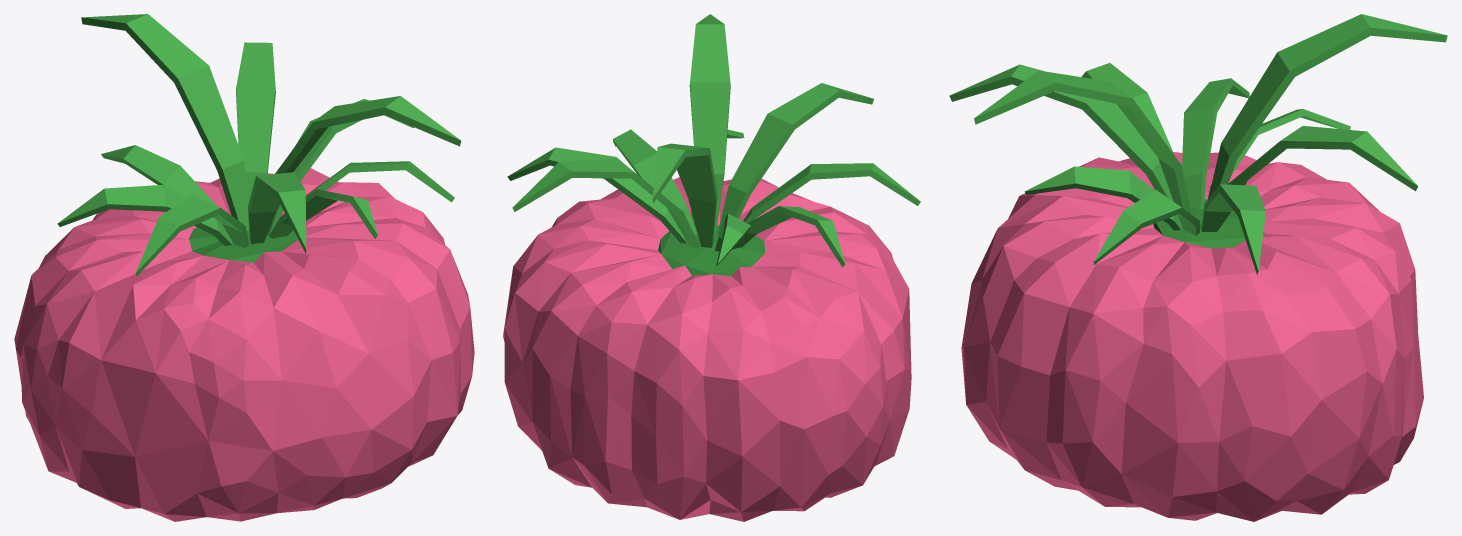
The model's file is fantasy_plant_059.fbx.
3 renders of one model, left to right at view 1: azimuth 30°, elevation 25°; view 2: azimuth 150°, elevation 25°; view 3: azimuth 270°, elevation 25°, orthographic. The views are drawn at different scales.
Parts seen in each view (by area): view 1: fantasy_plant.059; view 2: fantasy_plant.059; view 3: fantasy_plant.059.
Part boxes in pixels (x1,y1,x2,y2): fantasy_plant.059: (14,14,474,521); fantasy_plant.059: (503,14,920,521); fantasy_plant.059: (949,14,1447,521).
Size of the model in its own units: 150 by 144 by 152.
Materials: 1 (1 with a texture image).
